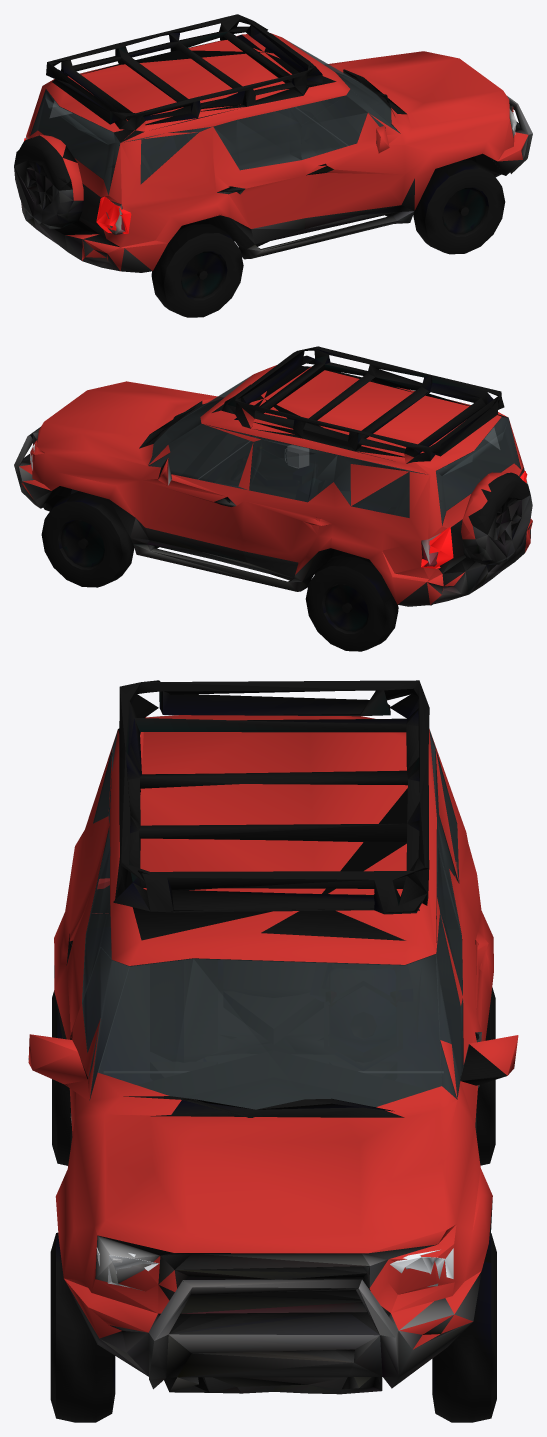
File: rb_ridgeback_race.glb
3 renders of one model, top to bottom at view 1: azimuth 30°, elevation 25°; view 2: azimuth 150°, elevation 25°; view 3: azimuth 270°, elevation 25°, orthographic. The views are drawn at different scales.
Visible parts, largest first — view 1: body, glass, tyre_RR, tyre_FR, window_R, interior, rim_FR, rim_RR, taillight_lens; view 2: body, glass, tyre_RL, tyre_FL, window_L, interior, driver, rim_FL, rim_RL, taillight_lens; view 3: body, glass, interior, tyre_FR, tyre_FL, driver, window_R, window_L, tyre_RL, tyre_RR, steering_wheel, headlight_lens.
Part boxes in pixels (x1=…): body: x1=14, y1=14, x2=532, y2=272; glass: x1=30, y1=40, x2=391, y2=194; tyre_RR: x1=151, y1=224, x2=243, y2=317; tyre_FR: x1=413, y1=160, x2=505, y2=254; window_R: x1=301, y1=89, x2=399, y2=159; interior: x1=141, y1=101, x2=359, y2=183; rim_FR: x1=442, y1=187, x2=486, y2=234; rim_RR: x1=181, y1=251, x2=224, y2=297; taillight_lens: x1=24, y1=138, x2=131, y2=233; body: x1=14, y1=346, x2=532, y2=606; glass: x1=152, y1=375, x2=520, y2=525; tyre_RL: x1=305, y1=556, x2=398, y2=651; tyre_FL: x1=41, y1=492, x2=134, y2=587; window_L: x1=148, y1=423, x2=252, y2=489; interior: x1=181, y1=431, x2=409, y2=517; driver: x1=240, y1=445, x2=321, y2=501; rim_FL: x1=61, y1=520, x2=104, y2=567; rim_RL: x1=325, y1=584, x2=368, y2=631; taillight_lens: x1=421, y1=470, x2=527, y2=568; body: x1=28, y1=680, x2=518, y2=1394; glass: x1=82, y1=715, x2=462, y2=1109; interior: x1=103, y1=959, x2=443, y2=1109; tyre_FR: x1=50, y1=1232, x2=115, y2=1422; tyre_FL: x1=432, y1=1232, x2=496, y2=1422; driver: x1=310, y1=963, x2=412, y2=1052; window_R: x1=82, y1=947, x2=129, y2=1098; window_L: x1=436, y1=912, x2=469, y2=1099; tyre_RL: x1=476, y1=987, x2=495, y2=1165; tyre_RR: x1=52, y1=990, x2=70, y2=1165; steering_wheel: x1=324, y1=981, x2=402, y2=1070; headlight_lens: x1=96, y1=1248, x2=453, y2=1287.
Size of the model in its own units: 4.79 by 2.04 by 2.19.
